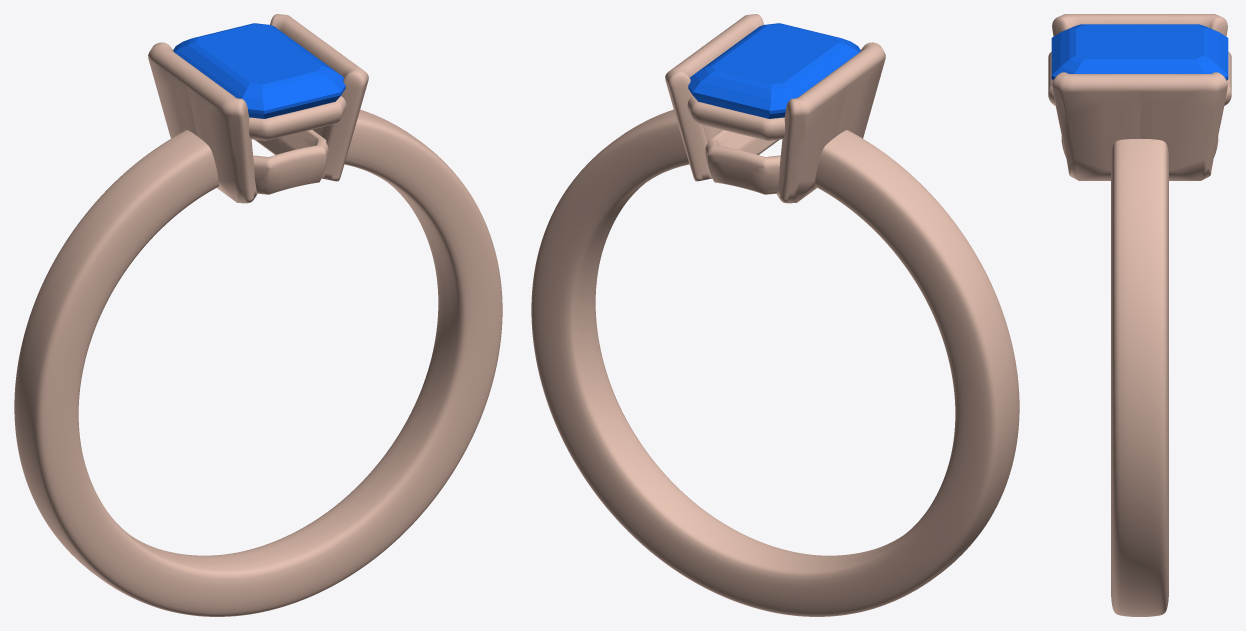
The model's file is bluesapphire-emerald-rosegold-halfmoonbezel-straightband-solitaire.glb.
3 renders of one model, left to right at view 1: azimuth 30°, elevation 25°; view 2: azimuth 150°, elevation 25°; view 3: azimuth 270°, elevation 25°, orthographic.
Parts seen in each view (by area): view 1: metal, stone; view 2: metal, stone; view 3: metal, stone.
Part boxes in pixels (box(x1,y1,x2,y2)): metal: box(14, 14, 502, 616); stone: box(173, 23, 345, 118); metal: box(531, 14, 1019, 616); stone: box(688, 23, 860, 118); metal: box(1048, 14, 1231, 616); stone: box(1051, 24, 1228, 80).
Bounding box in the file's own units: 20.5 × 22.95 × 6.94.
